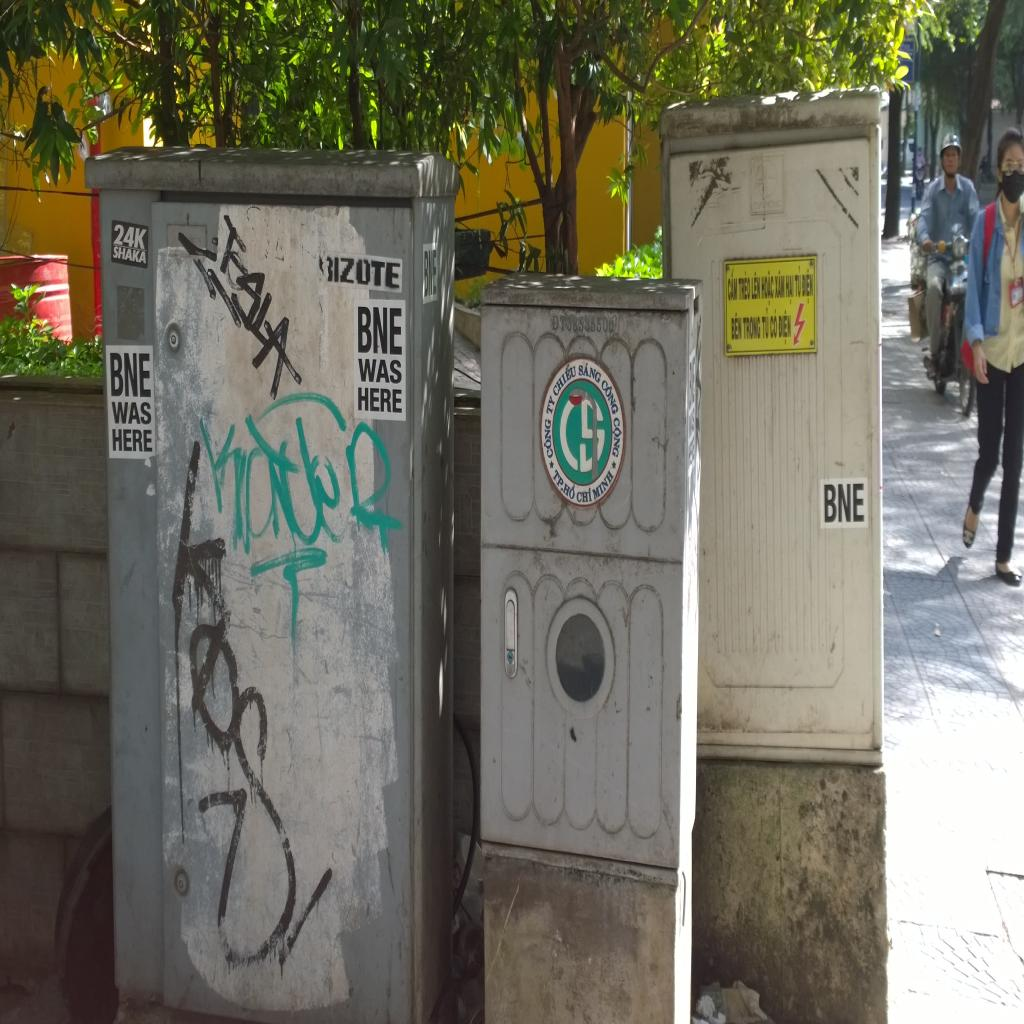text: (168, 428, 231, 620), (243, 543, 329, 665), (336, 420, 406, 552), (333, 254, 402, 289), (355, 305, 403, 355), (107, 351, 152, 396), (822, 480, 867, 520), (354, 356, 404, 382), (357, 385, 406, 411), (567, 314, 617, 338), (550, 360, 578, 400), (111, 429, 154, 453), (599, 374, 622, 418), (110, 245, 150, 270), (594, 463, 618, 504), (112, 222, 149, 248), (111, 402, 151, 425), (423, 247, 440, 299), (578, 358, 604, 387), (802, 268, 818, 312), (778, 307, 794, 346), (543, 414, 556, 460), (610, 420, 622, 466), (549, 465, 566, 495), (744, 314, 761, 343), (726, 268, 738, 301), (729, 312, 743, 340), (738, 270, 751, 300), (762, 272, 774, 303), (575, 484, 593, 504), (760, 306, 770, 340), (769, 306, 779, 340), (563, 481, 579, 502), (775, 270, 786, 300), (545, 389, 555, 420), (786, 272, 796, 303), (551, 316, 568, 333), (795, 267, 802, 300), (752, 272, 760, 300)
